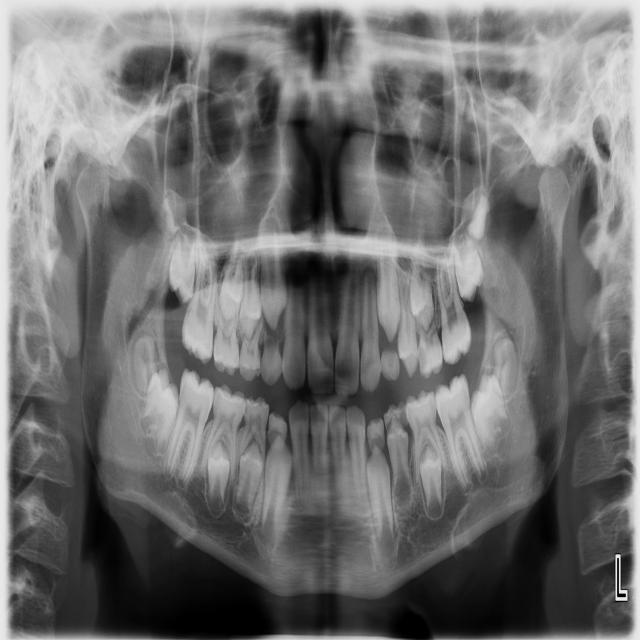mandibula: (78, 167, 572, 599)
